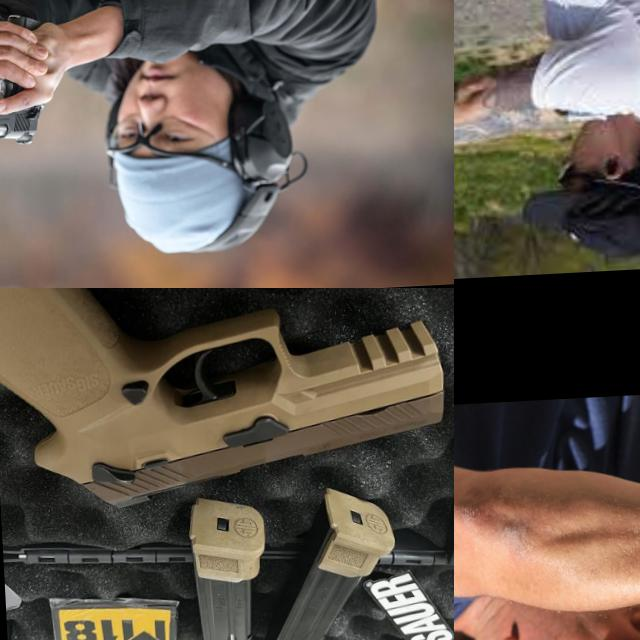handgun: (0, 288, 451, 520), (0, 69, 59, 151), (454, 147, 506, 199)
